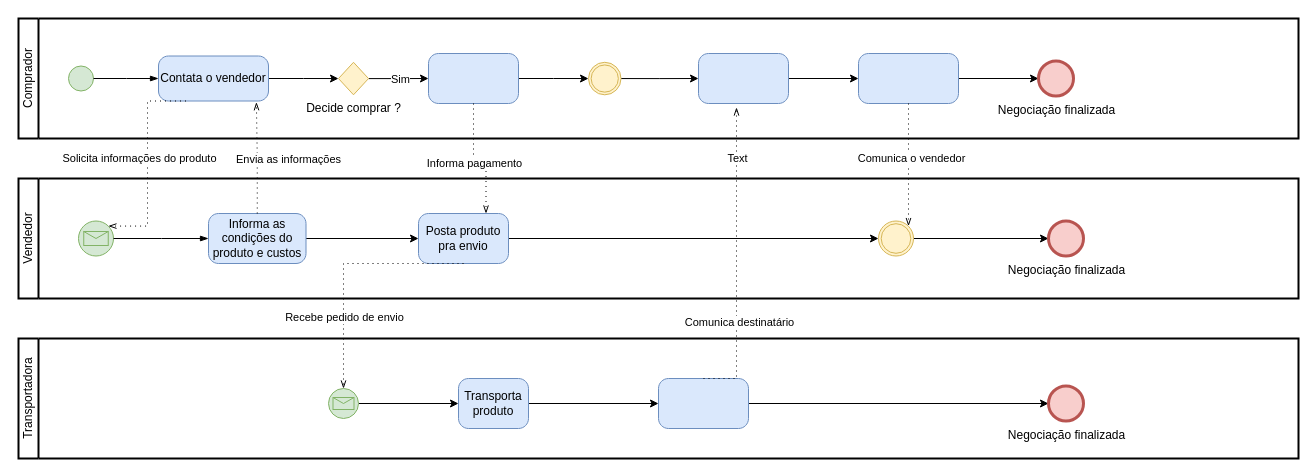
This 1316x476 diagram has some shape labels left out. The shapes that lost their labels are listed below. From the top down, each one's centre as x and y in pixels, then its label:
the point at 473,78: Envia pagamento
the point at 604,78: Aguarda entrega por tempo indeterminado
the point at 743,78: Recebe produto
the point at 908,78: Confirma entrega
the point at 896,238: Aguarda confirmação
the point at 703,403: Finaliza entrega
